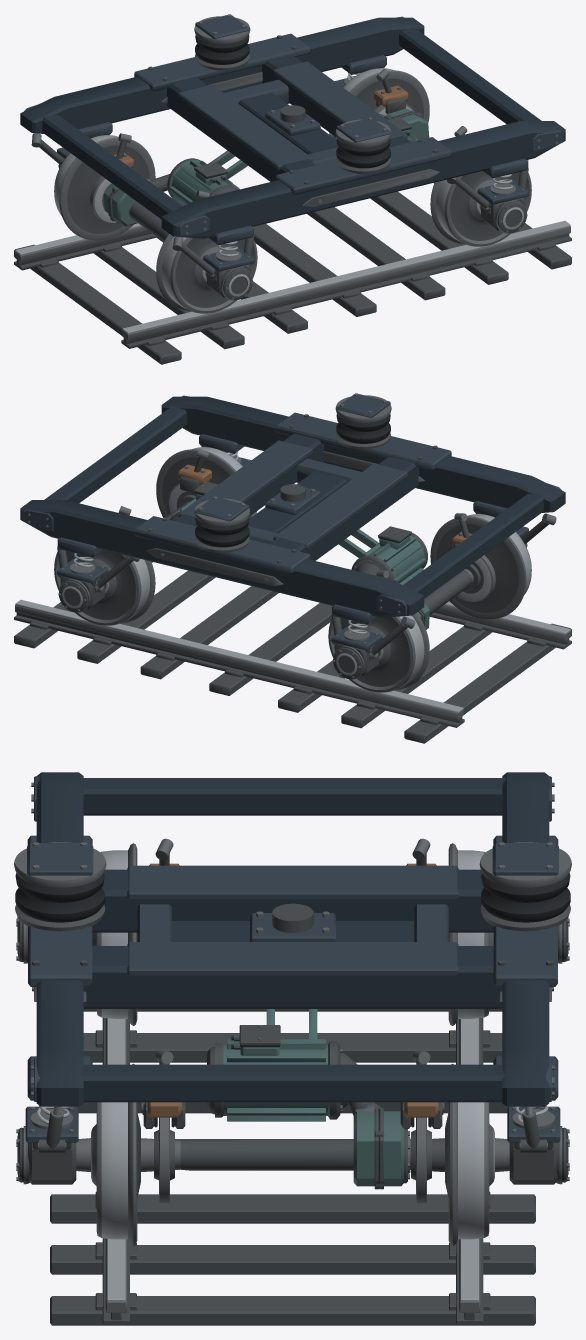
Rendered from bogie.glb.
The picture shows the model from 3 angles, top to bottom: view 1: azimuth 30°, elevation 25°; view 2: azimuth 150°, elevation 25°; view 3: azimuth 270°, elevation 25°; orthographic projection. The views are drawn at different scales.
Parts seen in each view (by area): view 1: reference_track_surface, cross_members_surface, side_beam_l_surface, side_beam_r_surface, wheel_a_r_surface, wheel_a_l_surface, wheel_b_l_surface, air_spring_l_surface, air_spring_r_surface, motor_a_surface, wheel_b_r_surface, axlebox_b_l_surface (+7 smaller); view 2: reference_track_surface, cross_members_surface, side_beam_r_surface, side_beam_l_surface, wheel_a_l_surface, wheel_a_r_surface, wheel_b_r_surface, motor_a_surface, air_spring_r_surface, air_spring_l_surface, wheel_b_l_surface, axlebox_b_r_surface (+6 smaller); view 3: cross_members_surface, reference_track_surface, side_beam_r_surface, side_beam_l_surface, axle_b_surface, air_spring_r_surface, air_spring_l_surface, motor_b_surface, wheel_b_l_surface, wheel_b_r_surface, gearbox_b_surface, axlebox_b_r_surface (+7 smaller).
Boxes of the visible parts, left/top/right/bottom form: reference_track_surface: left=14, top=182, right=571, bottom=364; cross_members_surface: left=42, top=27, right=541, bottom=219; side_beam_l_surface: left=161, top=121, right=565, bottom=245; side_beam_r_surface: left=20, top=16, right=424, bottom=138; wheel_a_r_surface: left=54, top=135, right=155, bottom=240; wheel_a_l_surface: left=156, top=234, right=257, bottom=313; wheel_b_l_surface: left=430, top=171, right=531, bottom=246; air_spring_l_surface: left=335, top=117, right=391, bottom=174; air_spring_r_surface: left=194, top=14, right=250, bottom=70; motor_a_surface: left=167, top=150, right=247, bottom=205; wheel_b_r_surface: left=329, top=68, right=429, bottom=139; axlebox_b_l_surface: left=477, top=180, right=528, bottom=233; reference_track_surface: left=14, top=570, right=571, bottom=743; cross_members_surface: left=44, top=406, right=543, bottom=598; side_beam_r_surface: left=20, top=500, right=424, bottom=624; side_beam_l_surface: left=161, top=395, right=565, bottom=517; wheel_a_l_surface: left=430, top=514, right=531, bottom=619; wheel_a_r_surface: left=328, top=613, right=429, bottom=692; wheel_b_r_surface: left=54, top=550, right=155, bottom=625; motor_a_surface: left=338, top=526, right=427, bottom=584; air_spring_r_surface: left=194, top=496, right=250, bottom=553; air_spring_l_surface: left=335, top=393, right=391, bottom=449; wheel_b_l_surface: left=156, top=447, right=256, bottom=518; axlebox_b_r_surface: left=57, top=559, right=108, bottom=612; cross_members_surface: left=80, top=778, right=505, bottom=1102; reference_track_surface: left=50, top=1009, right=535, bottom=1325; side_beam_r_surface: left=493, top=772, right=558, bottom=1106; side_beam_l_surface: left=27, top=772, right=92, bottom=1106; axle_b_surface: left=76, top=1138, right=509, bottom=1172; air_spring_r_surface: left=479, top=842, right=571, bottom=931; air_spring_l_surface: left=14, top=842, right=106, bottom=931; motor_b_surface: left=207, top=1009, right=357, bottom=1121; wheel_b_l_surface: left=91, top=1063, right=140, bottom=1246; wheel_b_r_surface: left=445, top=1063, right=494, bottom=1246; gearbox_b_surface: left=353, top=1102, right=410, bottom=1189; axlebox_b_r_surface: left=507, top=1106, right=569, bottom=1184.
Bounding box in the file's own units: 4.2 × 1.68 × 2.78.
